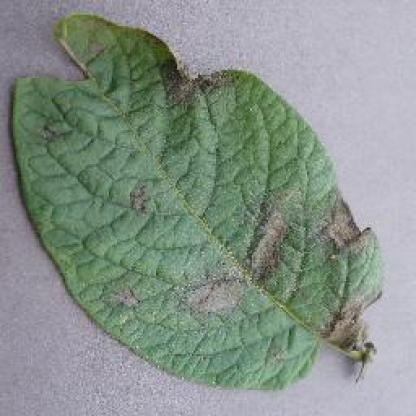bad leaf: (4, 17, 379, 388)
